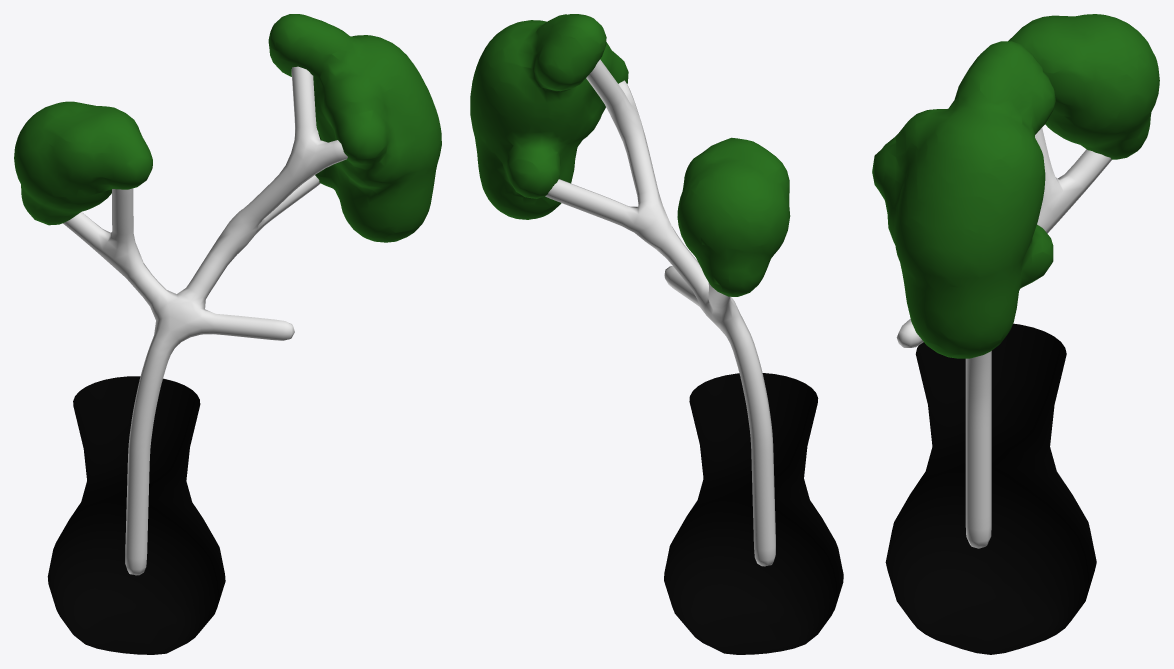
Rendered from LargeTree.glb.
3 renders of one model, left to right at view 1: azimuth 30°, elevation 25°; view 2: azimuth 150°, elevation 25°; view 3: azimuth 270°, elevation 25°, orthographic. The views are drawn at different scales.
Visible parts, largest first — view 1: LargeTree; view 2: LargeTree; view 3: LargeTree.
Part boxes in pixels (bbox=[...]): LargeTree: bbox=[14, 14, 441, 654]; LargeTree: bbox=[470, 14, 843, 654]; LargeTree: bbox=[872, 14, 1159, 654].
Bounding box in the file's own units: 2.61 × 3.95 × 1.52.
